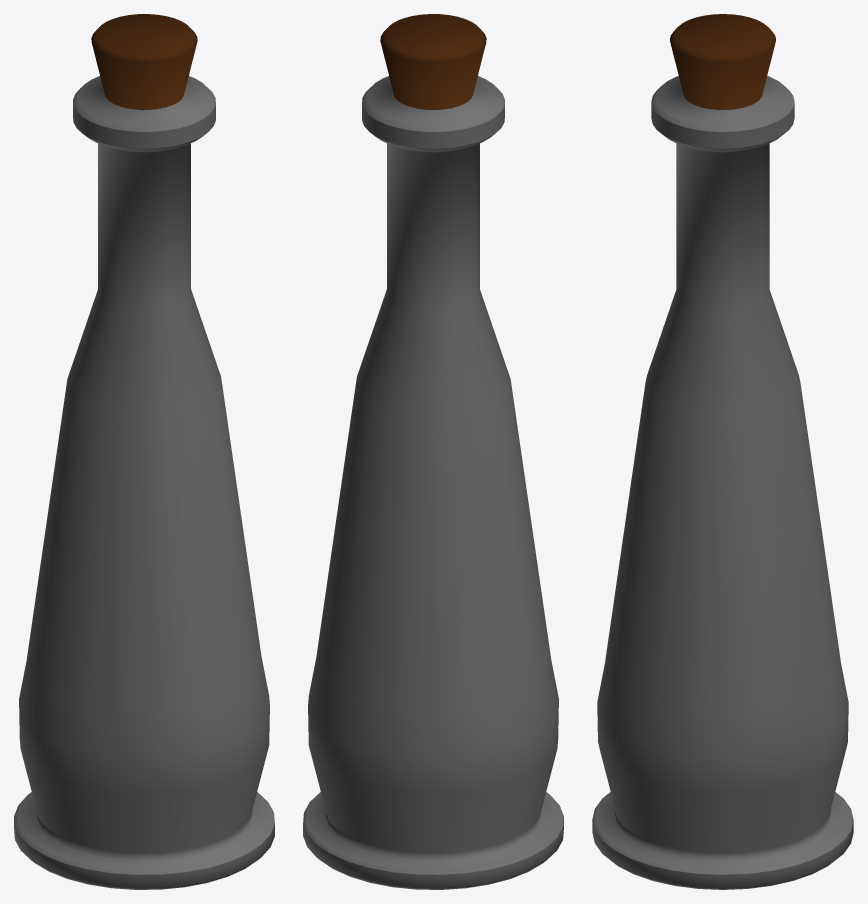
The model's file is CaptureGhost.fbx.
3 views of the same model, side by side, from view 1: azimuth 30°, elevation 25°; view 2: azimuth 150°, elevation 25°; view 3: azimuth 270°, elevation 25° (orthographic).
Parts seen in each view (by area): view 1: Garrafa.001; view 2: Garrafa.001; view 3: Garrafa.001.
Boxes of the visible parts, x1,y1,x2,y2 form: Garrafa.001: [14, 14, 274, 889]; Garrafa.001: [303, 14, 563, 889]; Garrafa.001: [592, 14, 853, 889].
Size of the model in its own units: 242 by 820 by 242.
2 materials, 1 textured.
